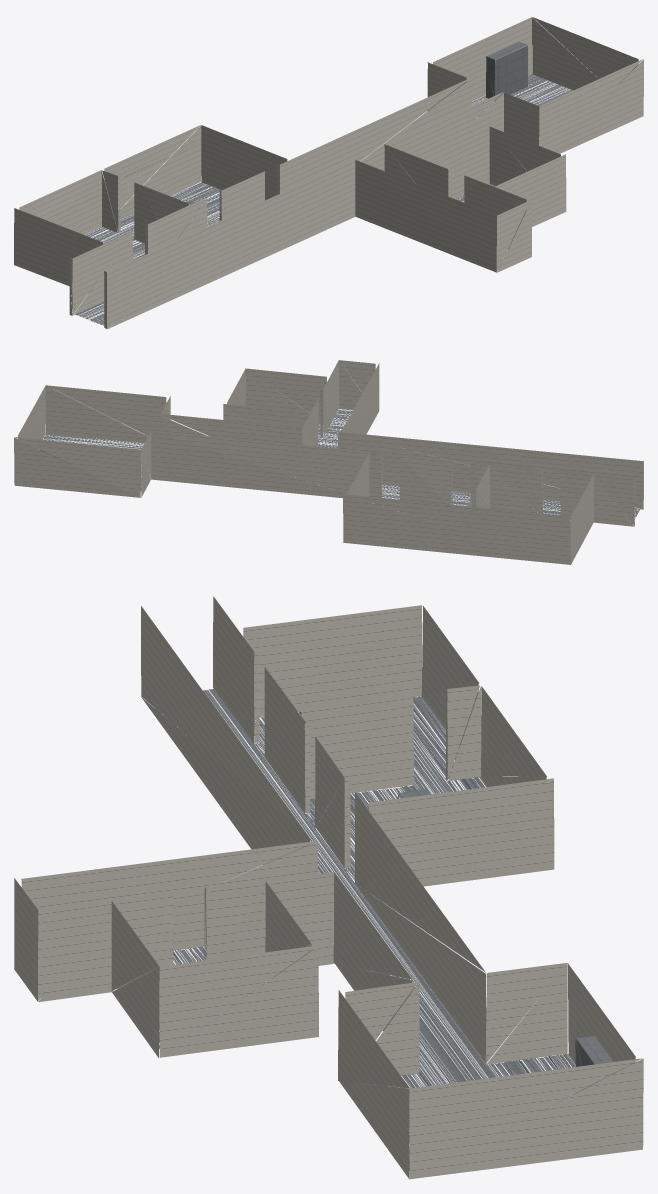
File: scan.glb
The picture shows the model from 3 angles, top to bottom: view 1: azimuth 30°, elevation 25°; view 2: azimuth 150°, elevation 25°; view 3: azimuth 270°, elevation 25°; orthographic projection. The views are drawn at different scales.
Parts seen in each view (by area): view 1: walls, floor; view 2: walls, floor; view 3: walls, floor.
Part boxes in pixels (x1,y1,x2,y2): walls: (14, 17, 643, 329); floor: (75, 41, 573, 325); walls: (14, 360, 643, 564); floor: (38, 408, 639, 523); walls: (14, 596, 643, 1179); floor: (41, 689, 616, 1158).
Bounding box in the file's own units: 30.2 × 2.67 × 16.27.
2 materials, 2 textured.
